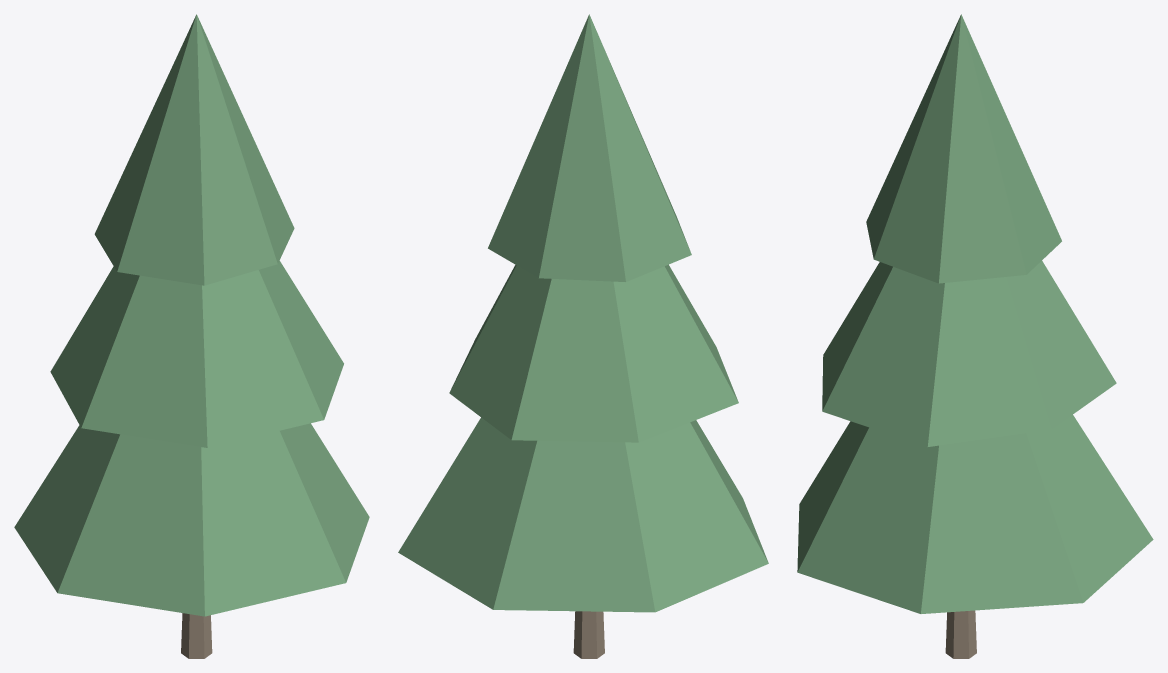
Rendered from tree-pine.glb.
The picture shows the model from 3 angles, left to right: view 1: azimuth 30°, elevation 25°; view 2: azimuth 150°, elevation 25°; view 3: azimuth 270°, elevation 25°; orthographic projection.
Parts seen in each view (by area): view 1: tree-pine; view 2: tree-pine; view 3: tree-pine.
Part boxes in pixels (box(x1,y1,x2,y2)): tree-pine: box(14, 14, 369, 658); tree-pine: box(398, 14, 768, 658); tree-pine: box(797, 14, 1153, 658).
Bounding box in the file's own units: 4.6 × 9 × 4.54.
